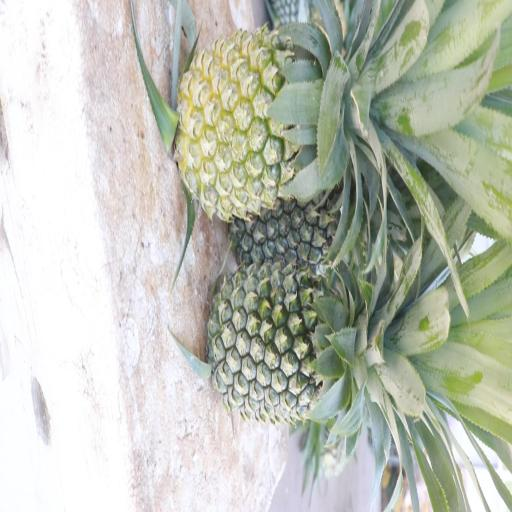Pineapple - v8 v1: (182, 30, 348, 216)
